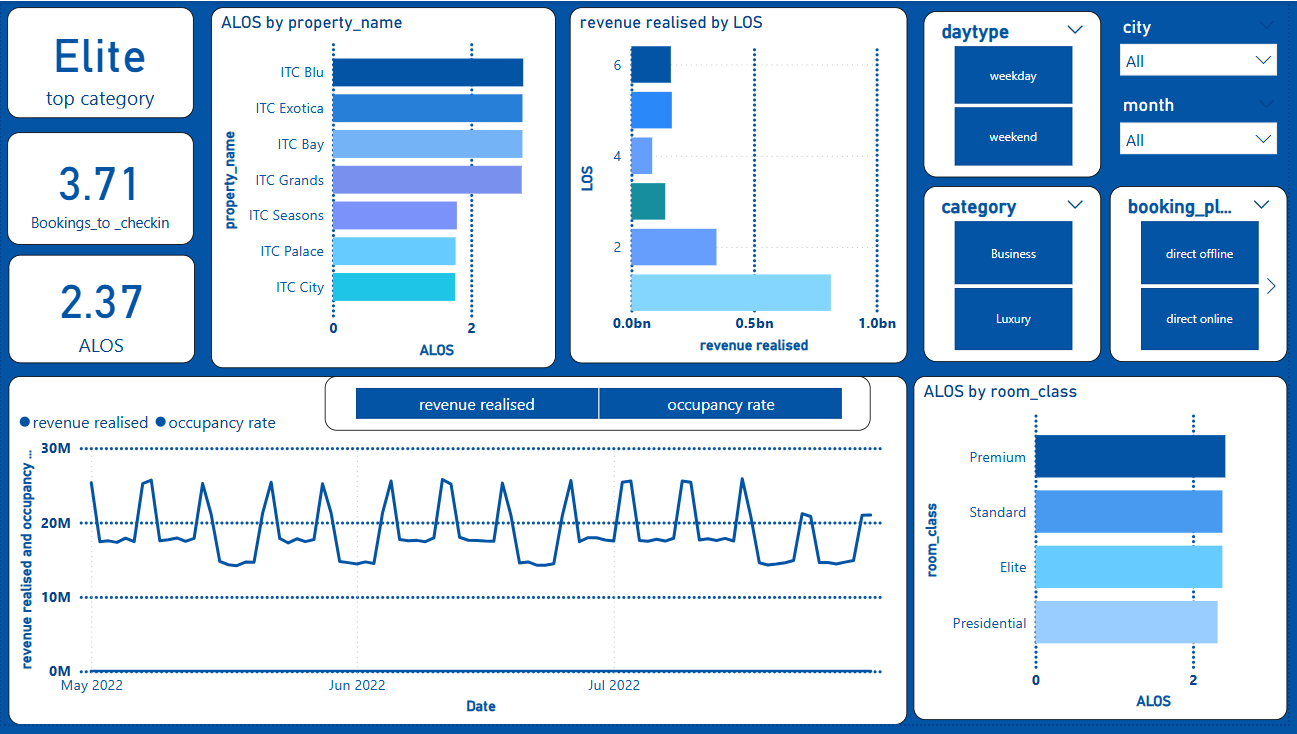

The page's visual inventory and layout, read from the dashboard file:
{"tool":"powerbi","page":{"name":"Bookings1","canvas":[1280,720],"ordinal":2},"visuals":[{"type":"lineChart","fields":{"Y":["Table.revenue realised","Table.occupancy rate"],"Category":["calender.Date"]},"box":[7.5,373.2,894.4,347.1],"z":0,"group":"g1"},{"type":"card","fields":{"Values":["Table.top category"]},"box":[6.2,6.2,185.3,110.7],"z":0},{"type":"slicer","fields":{"Values":["Parameter2.Parameter2"]},"box":[322.5,373.2,543.6,54.1],"z":1000,"group":"g1"},{"type":"barChart","fields":{"Y":["Table.ALOS"],"Category":["rooms.room_class"]},"box":[908.1,373.2,371.9,342.1],"z":1000},{"type":"card","fields":{"Values":["Table.ALOS"]},"box":[7.5,252.5,185.3,108.2],"z":2000},{"type":"barChart","fields":{"Y":["Table.revenue realised"],"Category":["bookings.Stay Duration"]},"box":[566,6.2,335.9,354.5],"z":3000},{"type":"barChart","fields":{"Y":["Table.ALOS"],"Category":["hotels.property_name"]},"box":[209,6.2,343.3,359.5],"z":4000},{"type":"card","fields":{"Values":["Table.Bookings_to _checkin"]},"box":[6.2,130.6,185.3,112],"z":5000},{"type":"group","id":"g1","title":"Group 1","box":[7.5,373.2,894.4,347.1],"z":6000},{"type":"slicer","fields":{"Values":["calender.daytype"]},"box":[918,10,176.6,165.4],"z":7000},{"type":"slicer","fields":{"Values":["calender.month"]},"box":[1103.4,88.3,176.6,87.1],"z":8000},{"type":"slicer","fields":{"Values":["hotels.city"]},"box":[1103.4,10,176.6,78.4],"z":9000},{"type":"slicer","fields":{"Values":["hotels.category"]},"box":[918,184.1,176.6,175.4],"z":10000},{"type":"slicer","fields":{"Values":["bookings.booking_platform"]},"box":[1103.4,184.1,176.6,175.4],"z":11001}]}

Visuals, with their boxes in screenshot pixels (x1, y1, x2, y2), scaled from the page's 1280x720 canvas onto the 1297x734 screenshot:
lineChart - Table.revenue realised x Table.occupancy rate: (left=8, top=380, right=914, bottom=733)
card - Table.top category: (left=6, top=6, right=194, bottom=119)
slicer - Parameter2.Parameter2: (left=327, top=380, right=878, bottom=436)
barChart - Table.ALOS x rooms.room_class: (left=920, top=380, right=1296, bottom=729)
card - Table.ALOS: (left=8, top=257, right=195, bottom=368)
barChart - Table.revenue realised x bookings.Stay Duration: (left=574, top=6, right=914, bottom=368)
barChart - Table.ALOS x hotels.property_name: (left=212, top=6, right=560, bottom=373)
card - Table.Bookings_to _checkin: (left=6, top=133, right=194, bottom=247)
"Group 1" group: (left=8, top=380, right=914, bottom=733)
slicer - calender.daytype: (left=930, top=10, right=1109, bottom=179)
slicer - calender.month: (left=1118, top=90, right=1296, bottom=179)
slicer - hotels.city: (left=1118, top=10, right=1296, bottom=90)
slicer - hotels.category: (left=930, top=188, right=1109, bottom=366)
slicer - bookings.booking_platform: (left=1118, top=188, right=1296, bottom=366)
